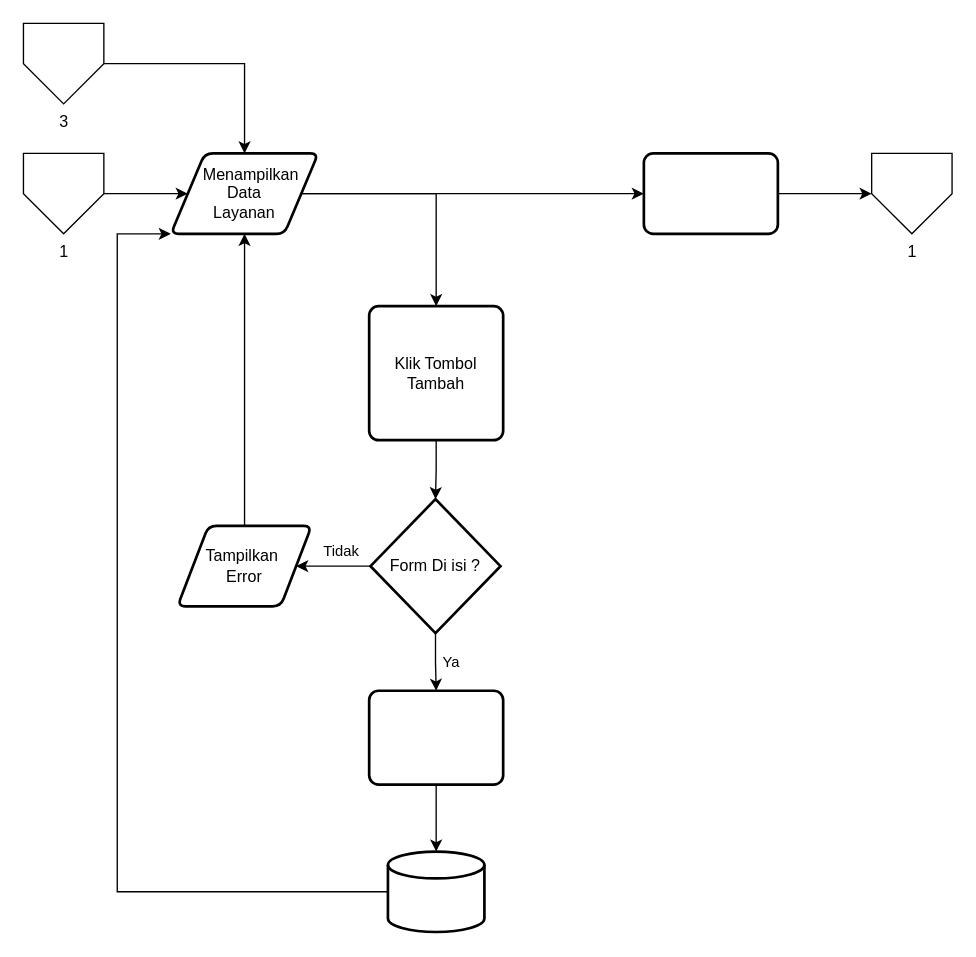
This 976x957 diagram has some shape labels left out. Each missing label, with the centre of its shape:
"Ambil Semua Data" goes at [435,737].
"Klik Tombol Transaksi" goes at [710,192].
"LaundryDB" goes at [435,891].
